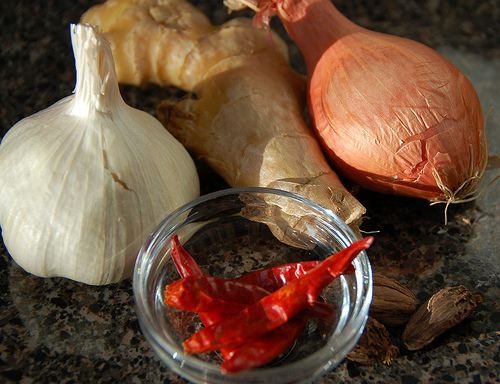onion: (228, 0, 493, 224)
